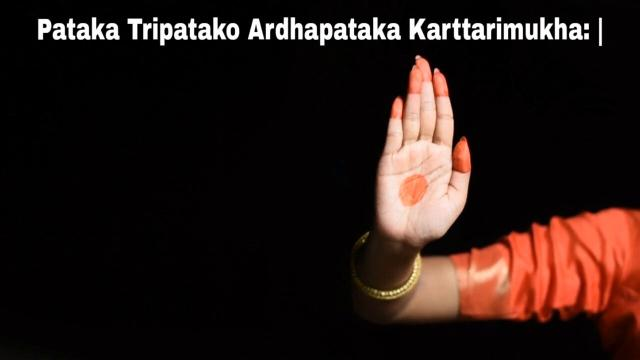pataka: (378, 52, 472, 250)
